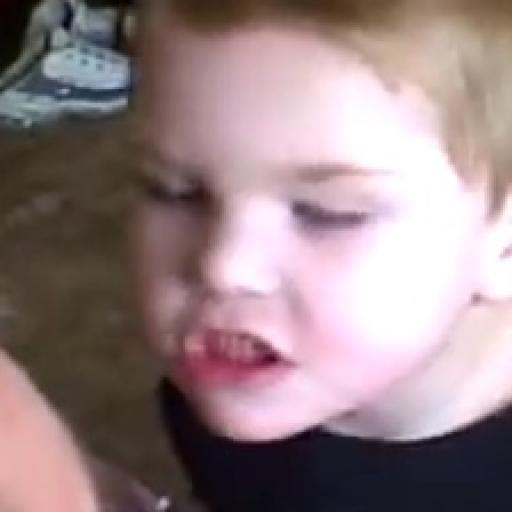Autism: (138, 7, 512, 455)
